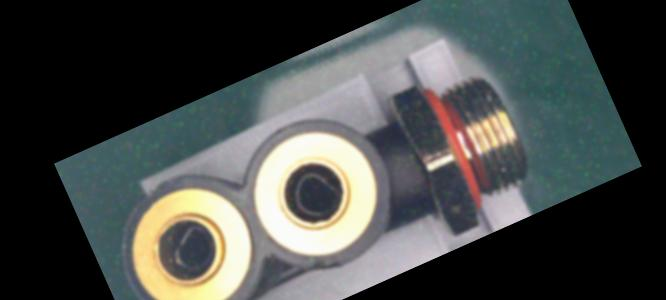off-centered: (280, 162, 347, 228), (160, 218, 224, 278)
white mark: (394, 149, 412, 166)
